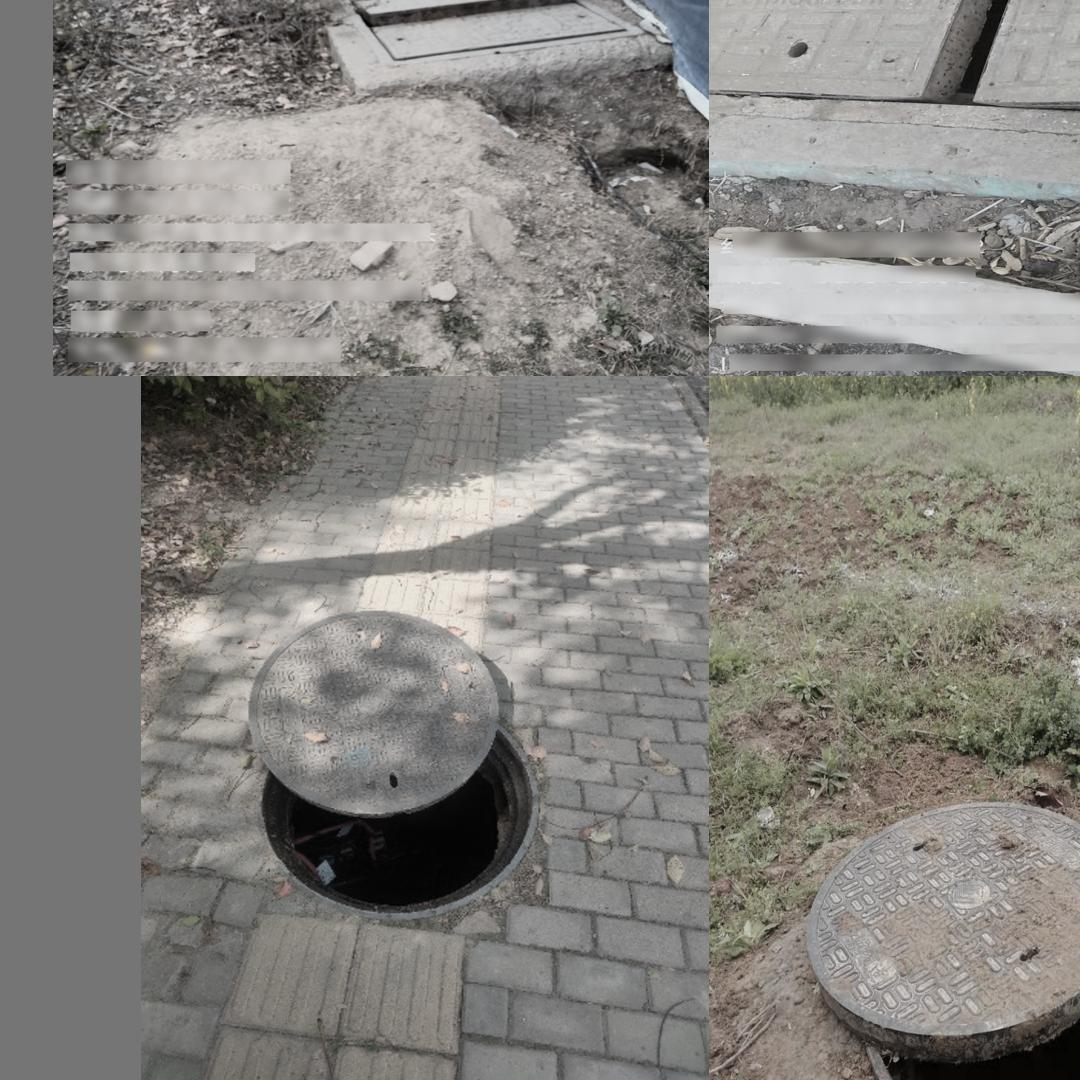uncovered: (245, 609, 540, 918), (798, 804, 1080, 1080), (709, 0, 1080, 122), (337, 0, 647, 69)
